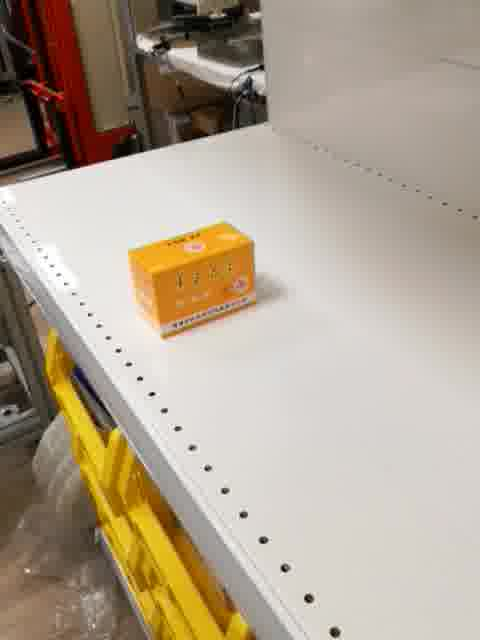jasminetea: (128, 221, 259, 342)
